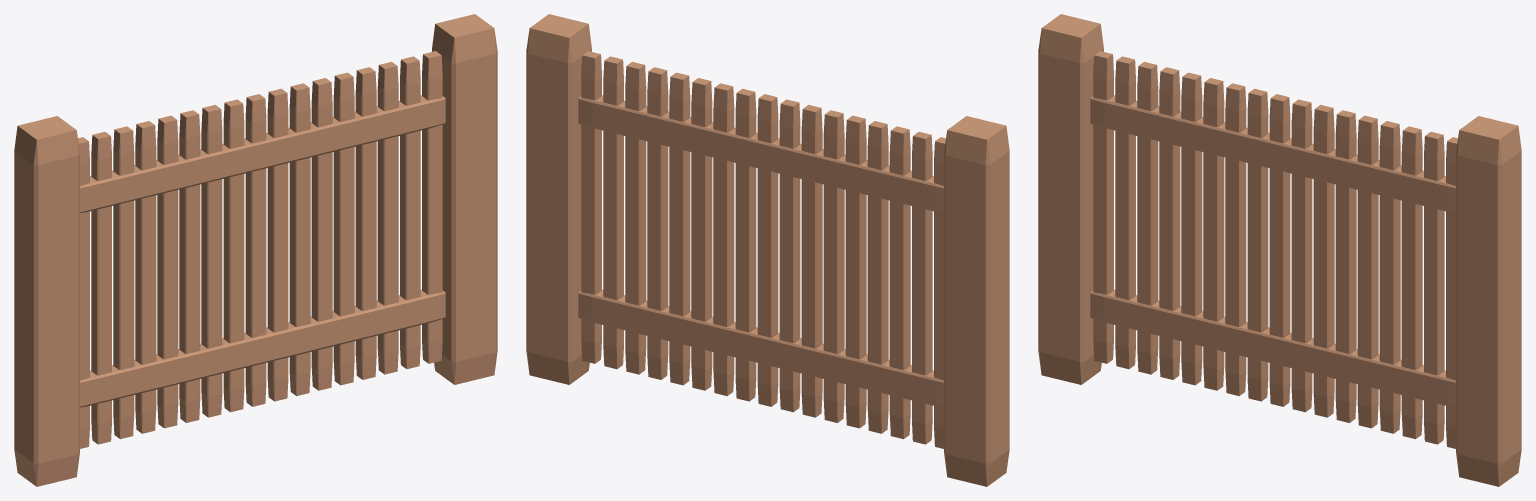
Rendered from b19_dogear_stockade_fence.glb.
3 renders of one model, left to right at view 1: azimuth 30°, elevation 25°; view 2: azimuth 150°, elevation 25°; view 3: azimuth 330°, elevation 25°, orthographic.
Parts seen in each view (by area): view 1: b19_dogear_stockade_fence; view 2: b19_dogear_stockade_fence; view 3: b19_dogear_stockade_fence.
Boxes of the visible parts, bbox=[...] form: b19_dogear_stockade_fence: bbox=[14, 14, 497, 486]; b19_dogear_stockade_fence: bbox=[526, 14, 1009, 486]; b19_dogear_stockade_fence: bbox=[1038, 14, 1521, 486].
Bounding box in the file's own units: 2.62 × 1.87 × 0.22.
